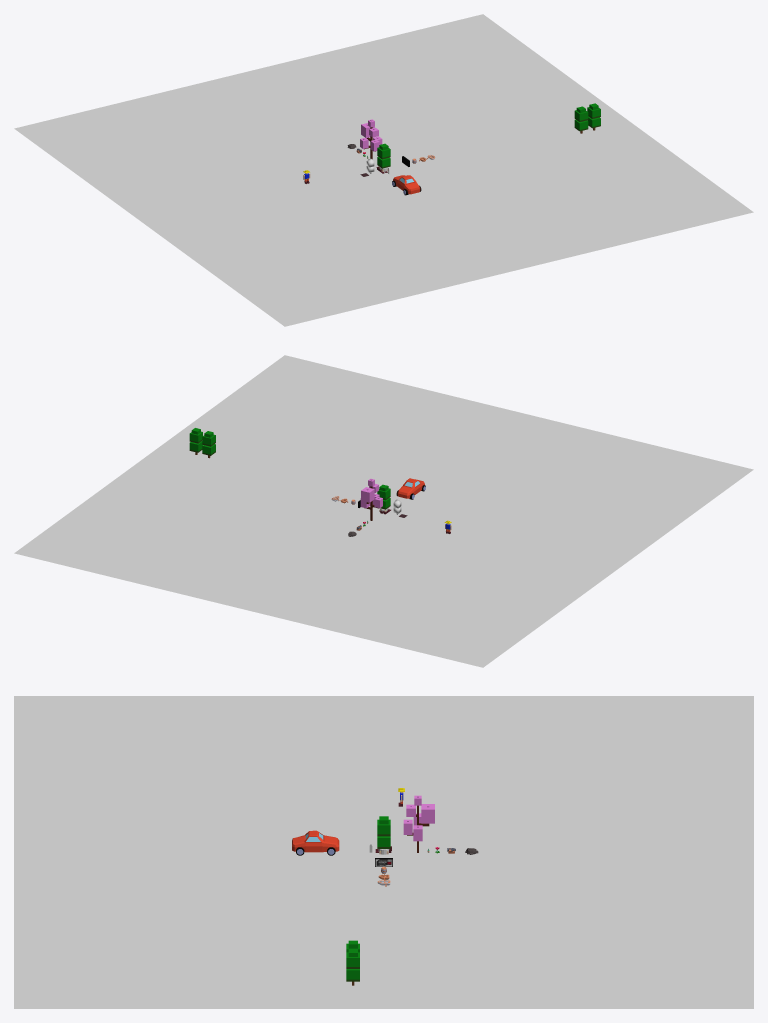
The model's file is profile.glb.
The picture shows the model from 3 angles, top to bottom: view 1: azimuth 30°, elevation 25°; view 2: azimuth 150°, elevation 25°; view 3: azimuth 270°, elevation 25°; orthographic projection. The views are drawn at different scales.
Parts seen in each view (by area): view 1: Plane, Tree 2; view 2: Plane, Tree 2; view 3: Plane, Tree 2, Car.
Part boxes in pixels (box(x1,y1,x2,y2)): Plane: box(14, 14, 753, 326); Tree 2: box(360, 119, 382, 159); Plane: box(14, 355, 753, 667); Tree 2: box(360, 478, 382, 520); Plane: box(14, 696, 753, 1008); Tree 2: box(403, 795, 434, 852); Car: box(292, 830, 339, 852).
Size of the model in its own units: 162 by 16.62 by 162.
28 materials, 6 textured.
